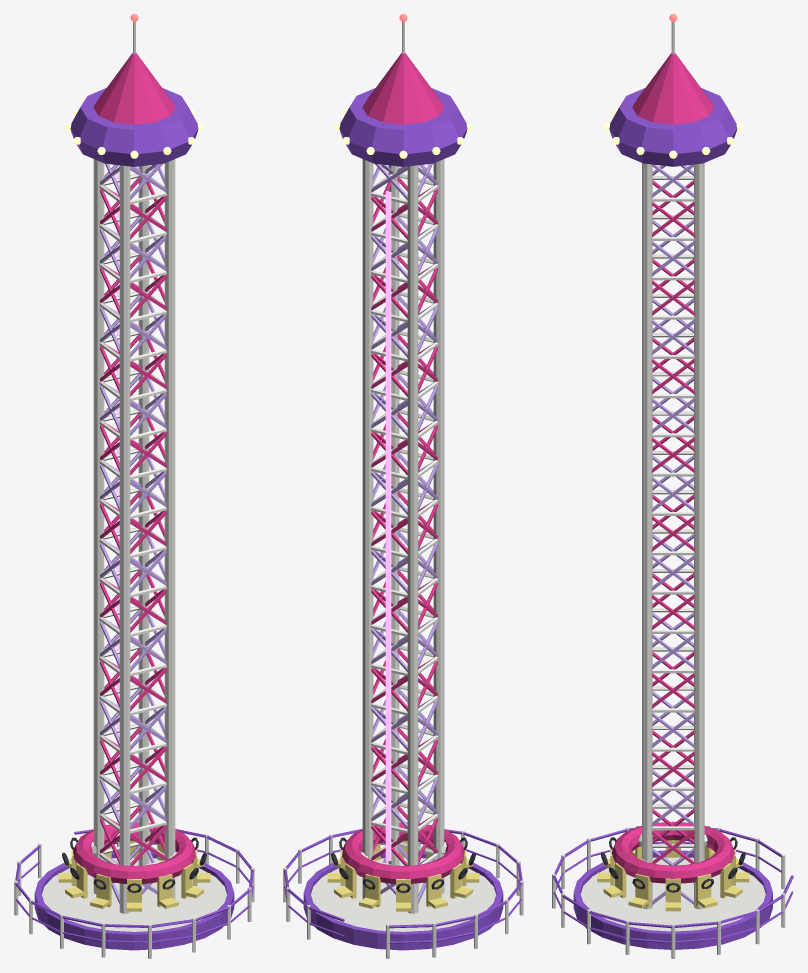
File: DropTower.fbx
3 views of the same model, side by side, from view 1: azimuth 30°, elevation 25°; view 2: azimuth 150°, elevation 25°; view 3: azimuth 270°, elevation 25° (orthographic).
Parts seen in each view (by area): view 1: DropTower_White, DropTower_HotPink, DropTower_Purple, DropTower_Lilac, DropTower_Lemon, DropTower_NeonPink, DropTower_Charcoal; view 2: DropTower_White, DropTower_HotPink, DropTower_Purple, DropTower_Lilac, DropTower_NeonPink, DropTower_Lemon, DropTower_Charcoal; view 3: DropTower_White, DropTower_HotPink, DropTower_Purple, DropTower_Lilac, DropTower_Lemon, DropTower_Charcoal.
Boxes of the visible parts, x1,y1,x2,y2 form: DropTower_White: [14, 22, 254, 958]; DropTower_HotPink: [73, 53, 195, 883]; DropTower_Purple: [15, 88, 253, 950]; DropTower_Lilac: [100, 163, 166, 903]; DropTower_Lemon: [58, 840, 210, 911]; DropTower_NeonPink: [116, 171, 119, 836]; DropTower_Charcoal: [62, 837, 206, 893]; DropTower_White: [283, 22, 523, 958]; DropTower_HotPink: [342, 53, 464, 883]; DropTower_Purple: [284, 88, 522, 950]; DropTower_Lilac: [371, 163, 437, 903]; DropTower_NeonPink: [385, 191, 391, 860]; DropTower_Lemon: [327, 840, 479, 911]; DropTower_Charcoal: [331, 837, 475, 893]; DropTower_White: [552, 22, 785, 958]; DropTower_HotPink: [611, 53, 734, 883]; DropTower_Purple: [553, 88, 793, 949]; DropTower_Lilac: [652, 164, 694, 905]; DropTower_Lemon: [597, 840, 749, 911]; DropTower_Charcoal: [601, 826, 745, 892].
Bounding box in the file's own units: 22.31 × 91 × 22.3.
